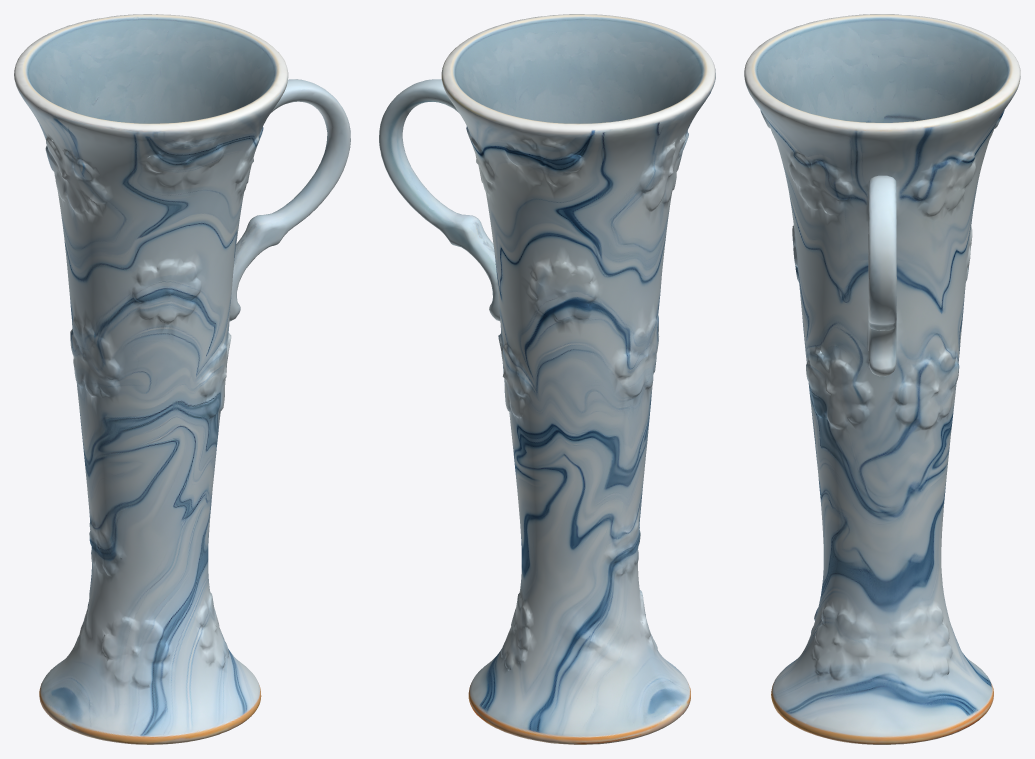
File: cousin_9.glb
3 views of the same model, side by side, from view 1: azimuth 30°, elevation 25°; view 2: azimuth 150°, elevation 25°; view 3: azimuth 270°, elevation 25° (orthographic).
Size of the model in its own units: 0.9951 by 1.91 by 0.7597.
1 material, 1 textured.
